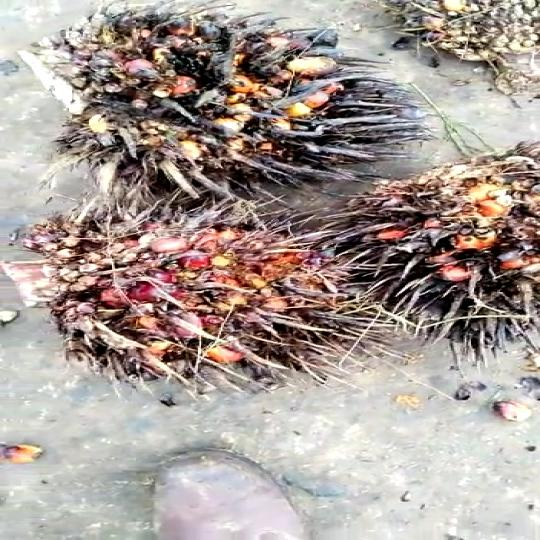terlalu masak: (23, 202, 387, 396), (44, 8, 414, 196)
